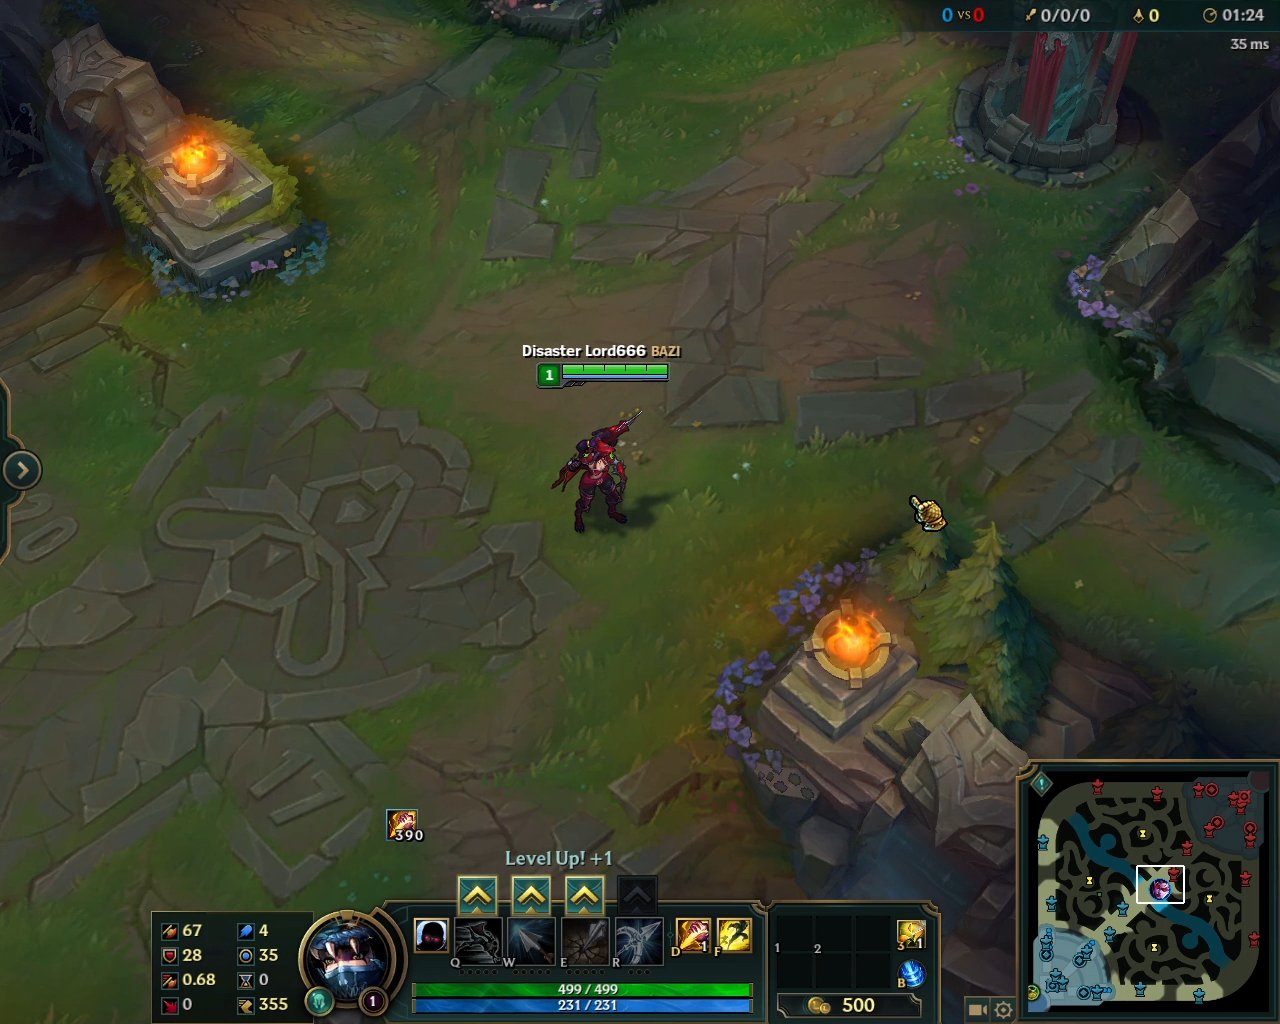Vayne: (542, 408, 653, 541)
